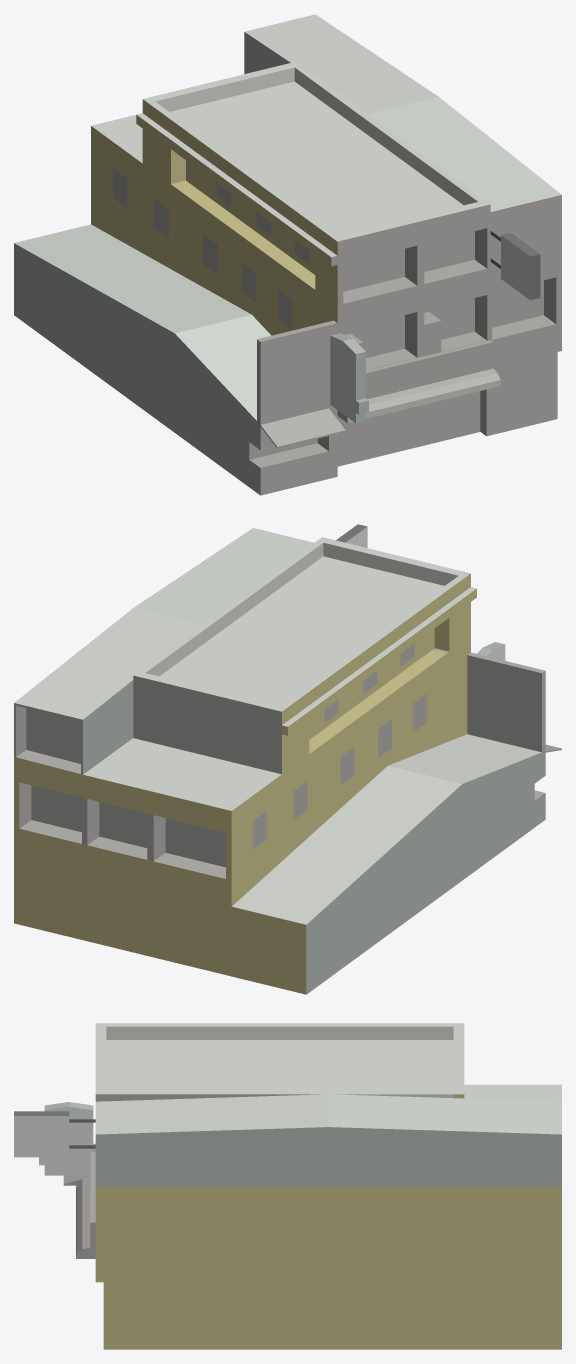
The model's file is Pasha_Block_08.fbx.
3 renders of one model, top to bottom at view 1: azimuth 30°, elevation 25°; view 2: azimuth 150°, elevation 25°; view 3: azimuth 270°, elevation 25°, orthographic. The views are drawn at different scales.
Parts seen in each view (by area): view 1: Pasha_Block_08; view 2: Pasha_Block_08; view 3: Pasha_Block_08.
Part boxes in pixels (box(x1,y1,x2,y2)): Pasha_Block_08: box(14, 14, 561, 495); Pasha_Block_08: box(14, 524, 561, 994); Pasha_Block_08: box(14, 1023, 561, 1349).
Bounding box in the file's own units: 2000 × 1491 × 3329.
